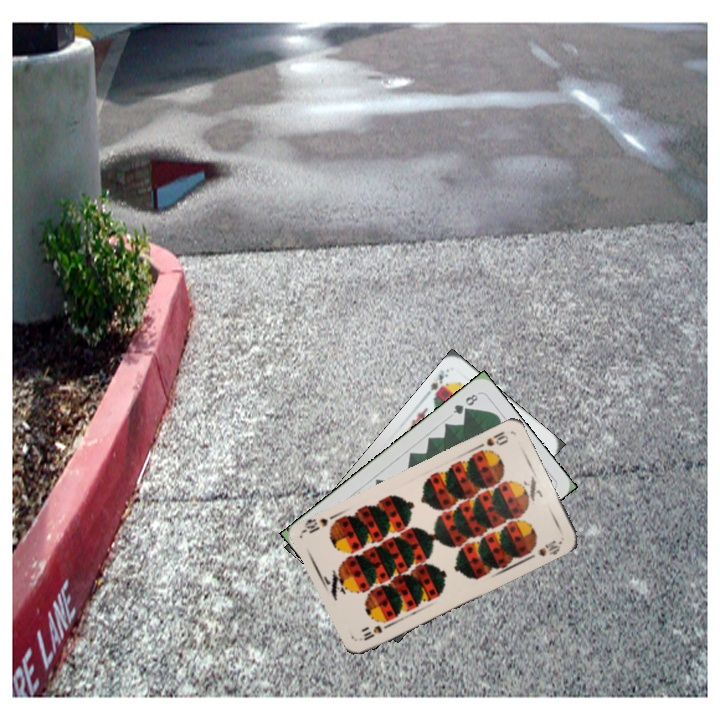G8: (449, 390, 481, 417)
S10: (472, 427, 511, 456), (356, 619, 395, 643)
SK: (421, 365, 452, 405)
